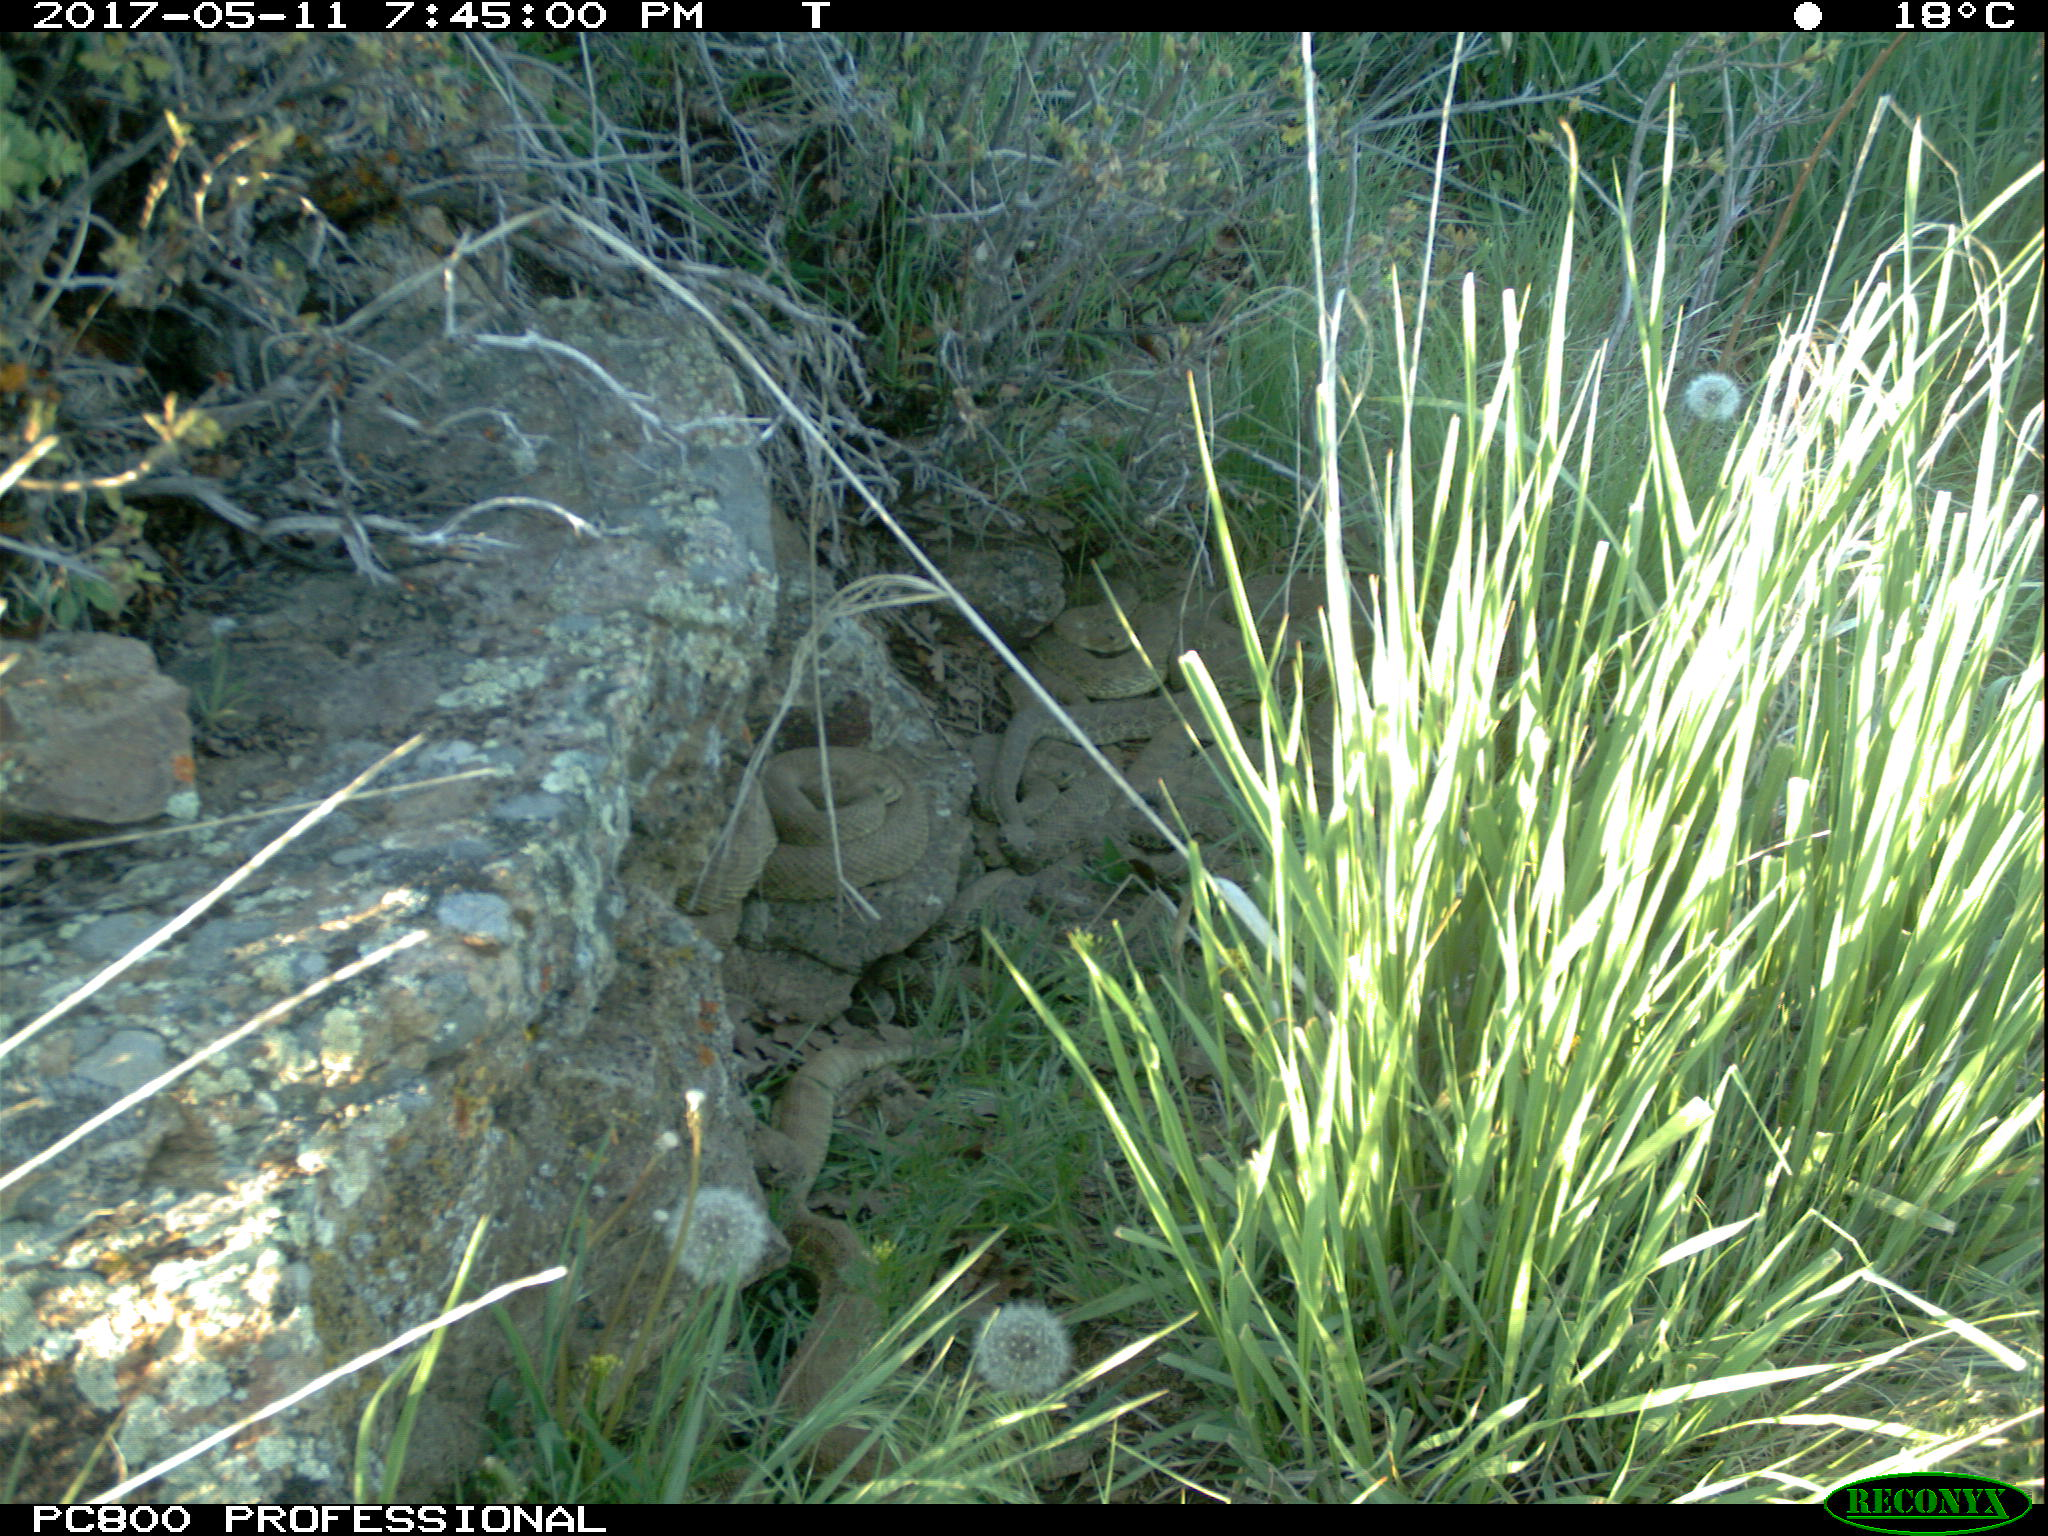snake: (772, 1033, 939, 1496), (971, 702, 1288, 854), (761, 742, 930, 905), (1035, 568, 1187, 687), (1197, 586, 1359, 671), (672, 783, 776, 912), (961, 868, 1138, 926)
